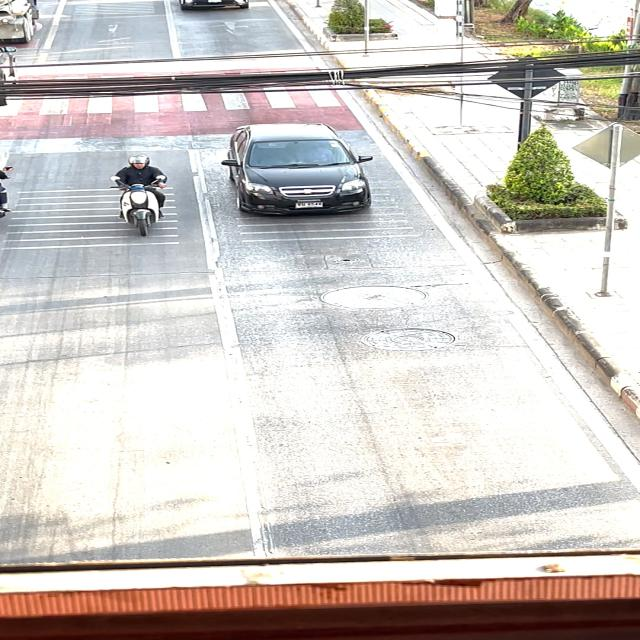car: (205, 116, 386, 232)
